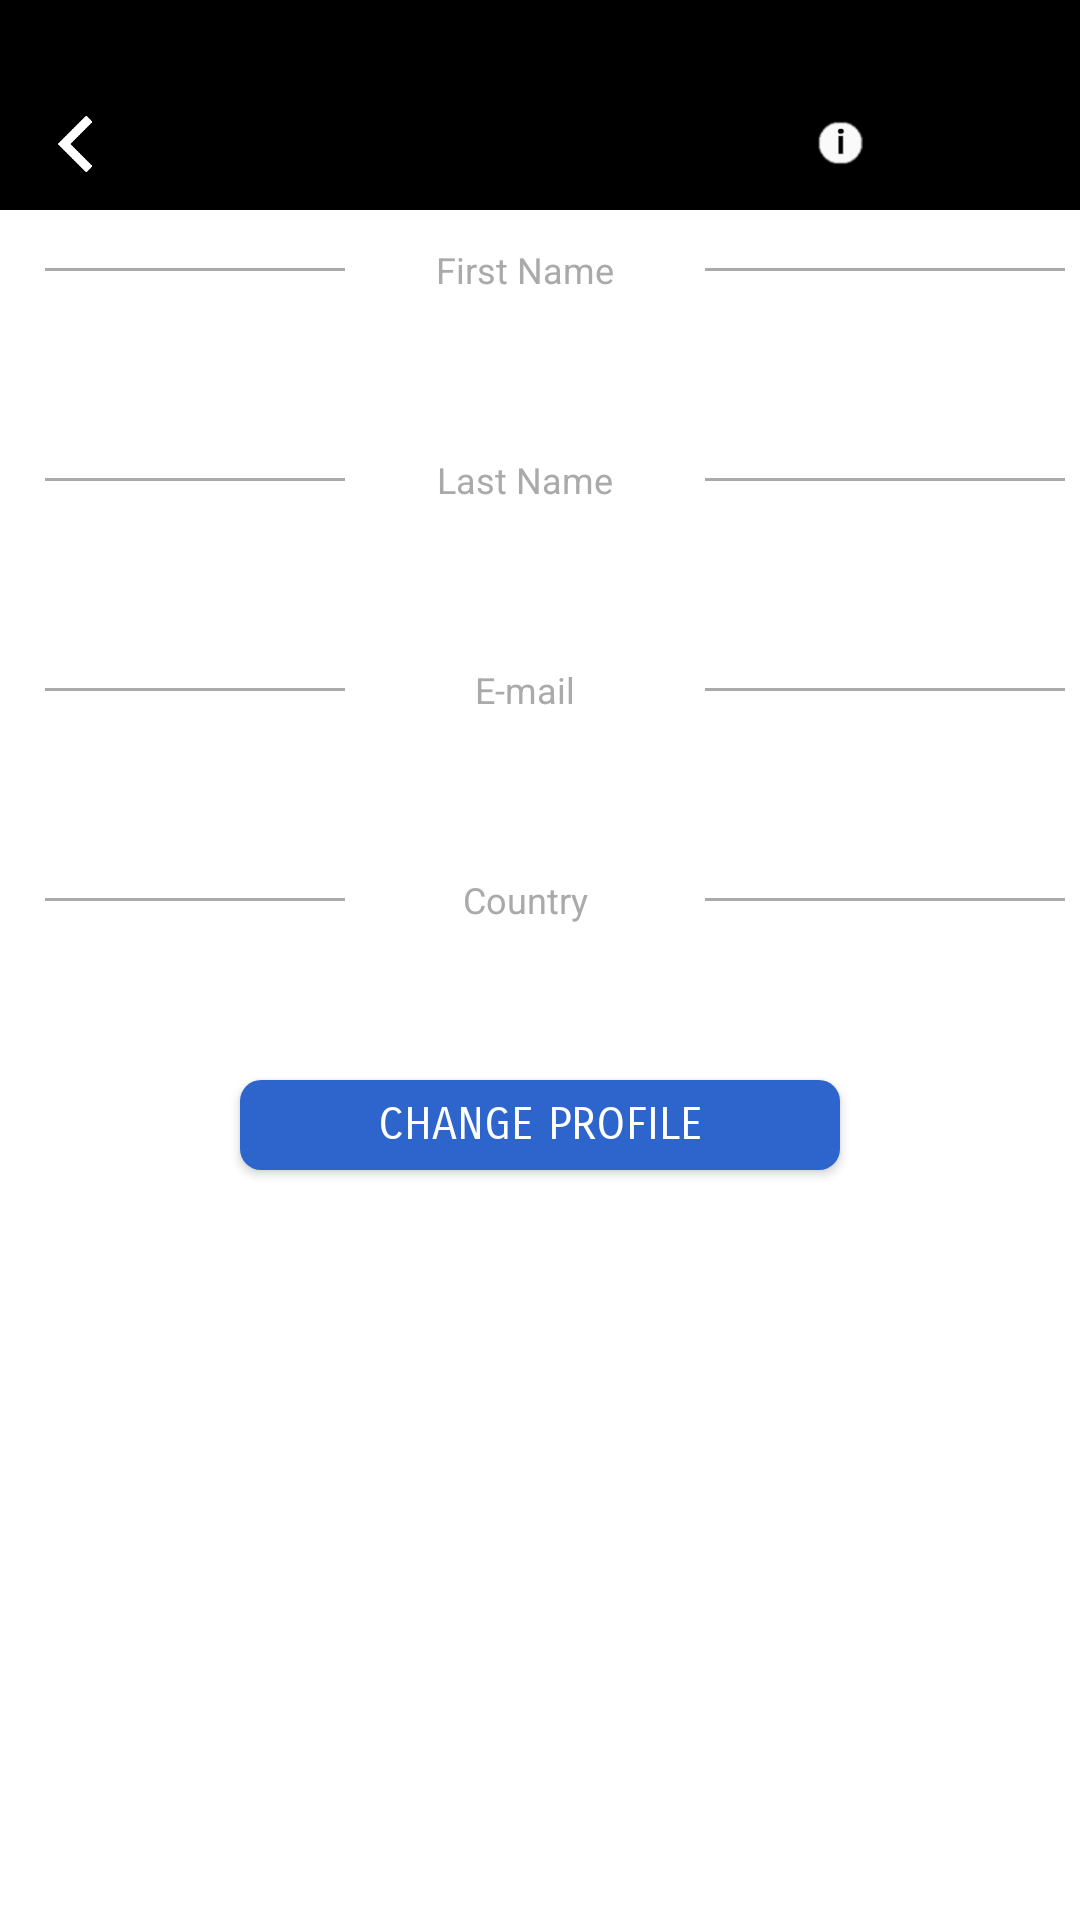

Named icons in this screenshot (1080px×1920px) and their bounding boxes, (x1, y1, x2, y2):
bac: (58, 116, 92, 172)
informacao: (818, 122, 863, 164)
